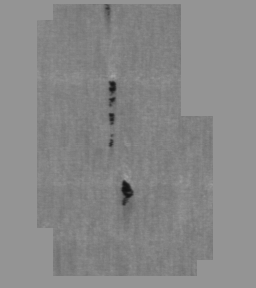oxl: (35, 10, 221, 278)
